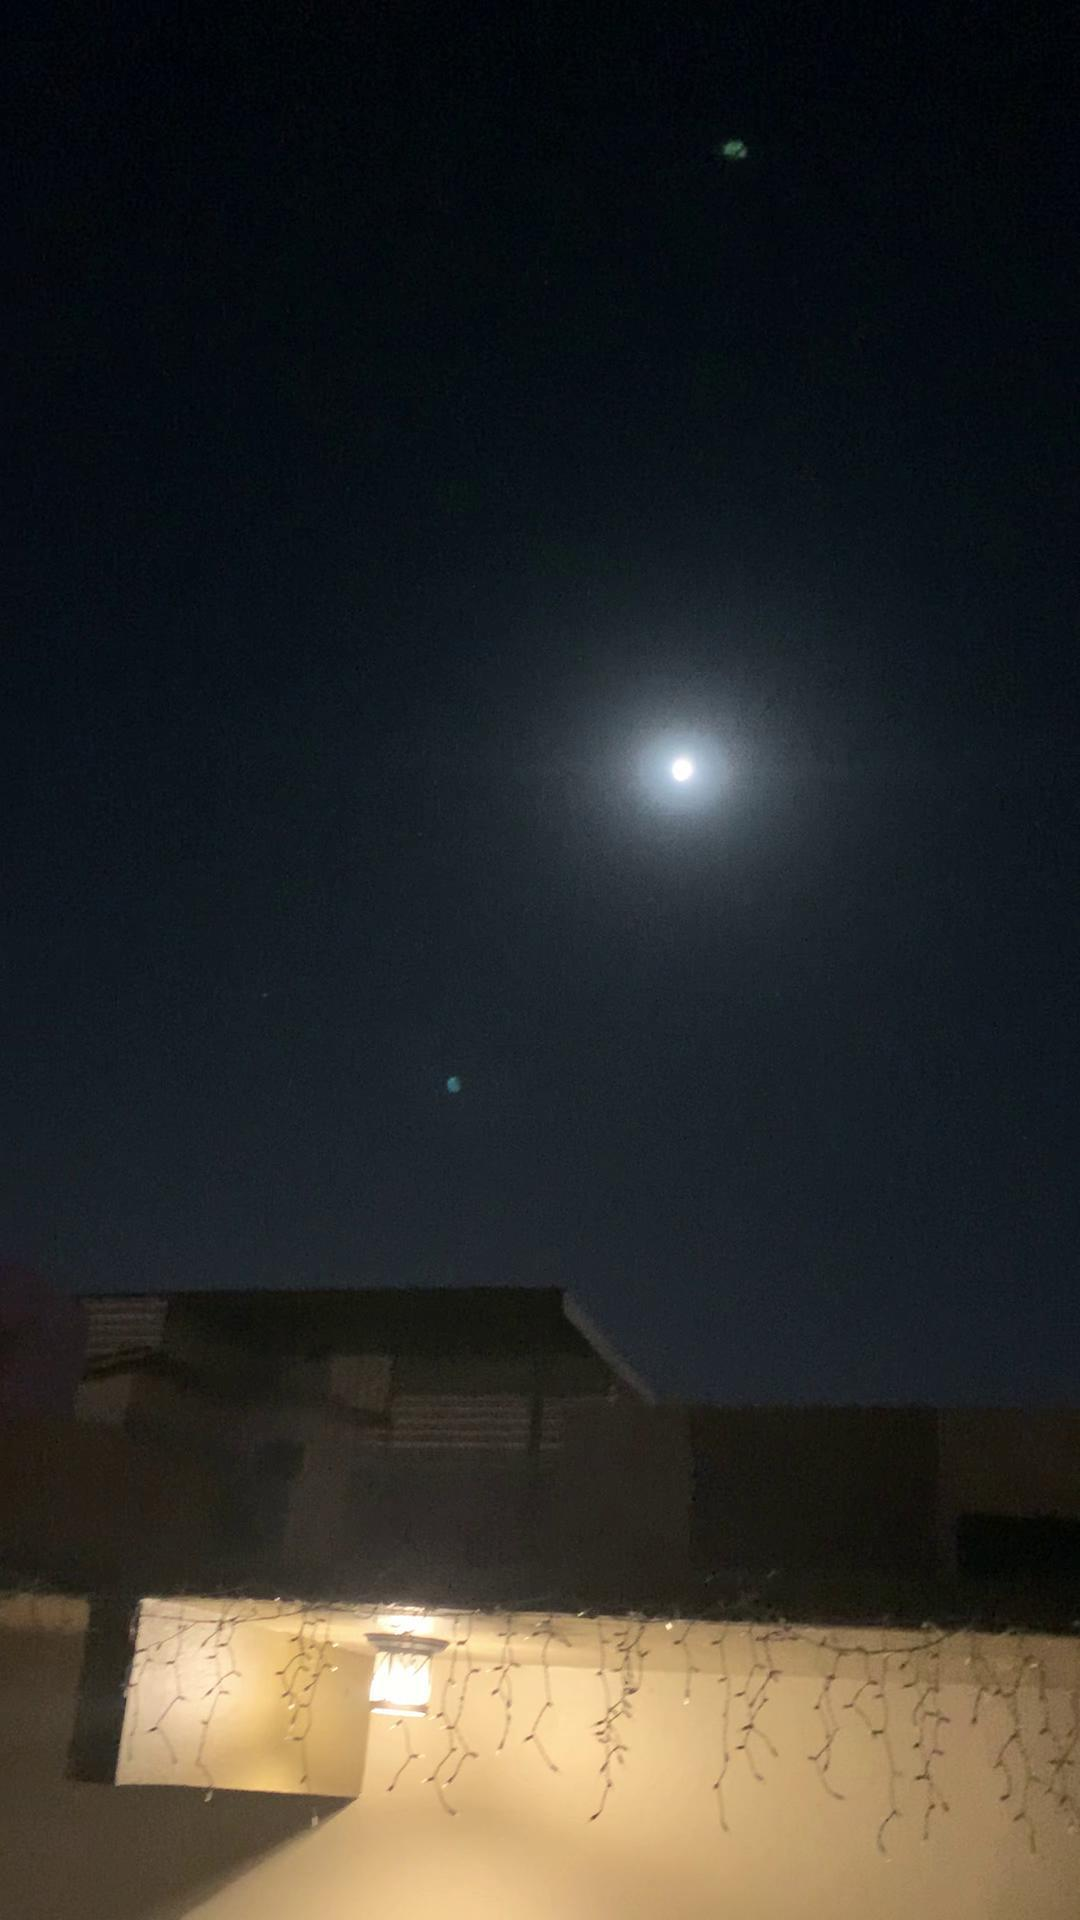moon: (637, 729, 724, 808)
